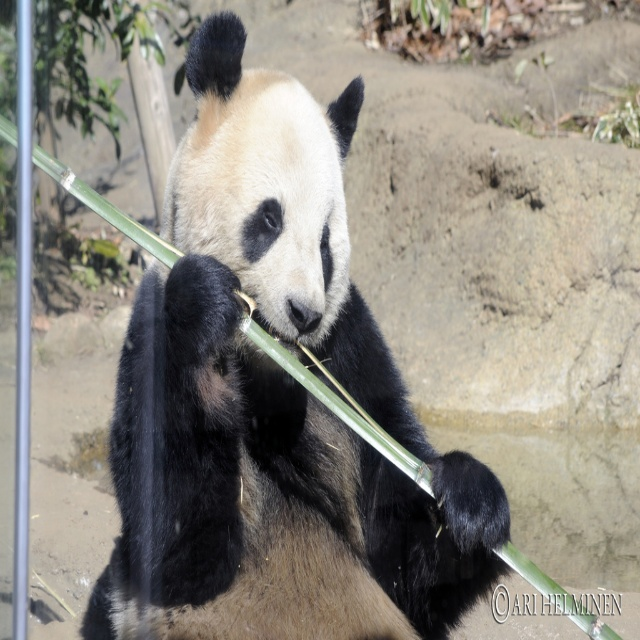Panda: (73, 7, 512, 639)
